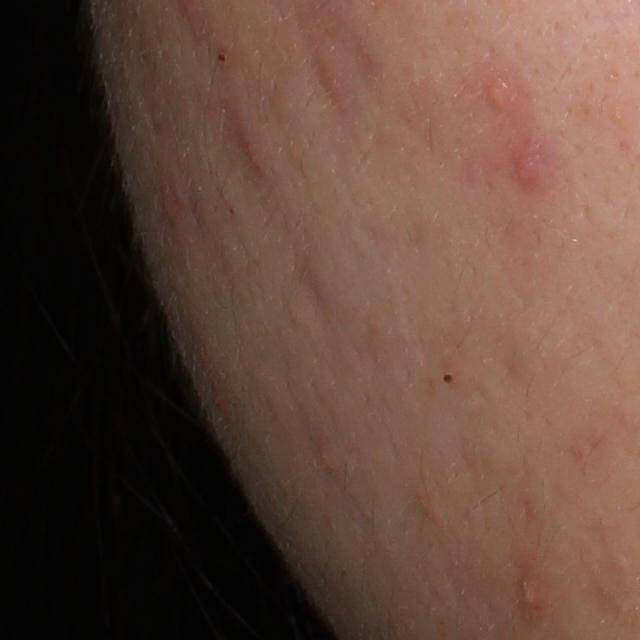comedo: (435, 369, 457, 394)
papule: (505, 147, 552, 198), (514, 569, 547, 620), (478, 78, 515, 120), (313, 53, 342, 102)
